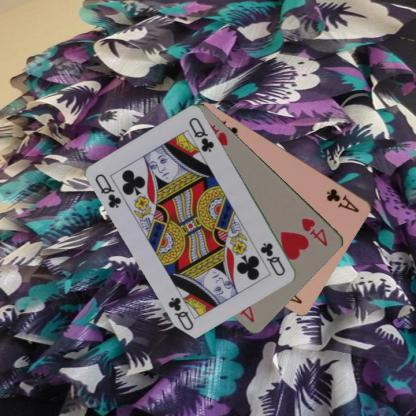4h: (300, 215, 330, 248)
Ac: (324, 185, 361, 214)
Qc: (93, 171, 123, 210), (258, 240, 287, 278)
